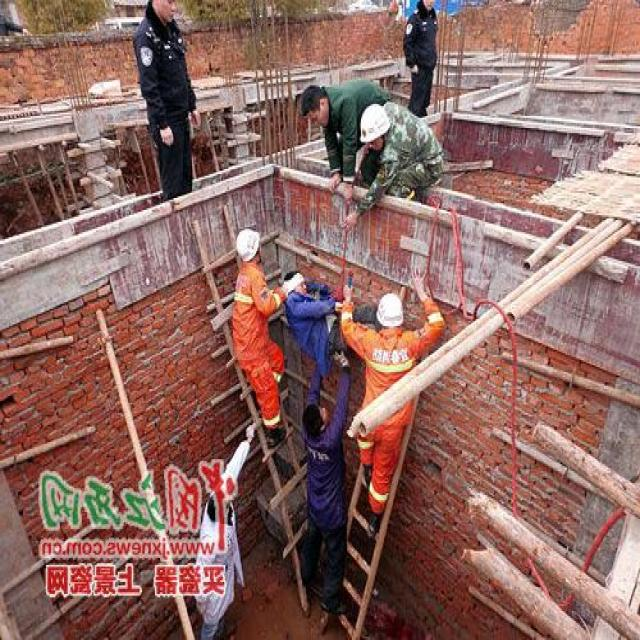Reflective-Jacket: (352, 331, 428, 509), (232, 264, 284, 432)
Safety-Helmet: (360, 101, 389, 143), (376, 292, 404, 329), (236, 225, 261, 263)
